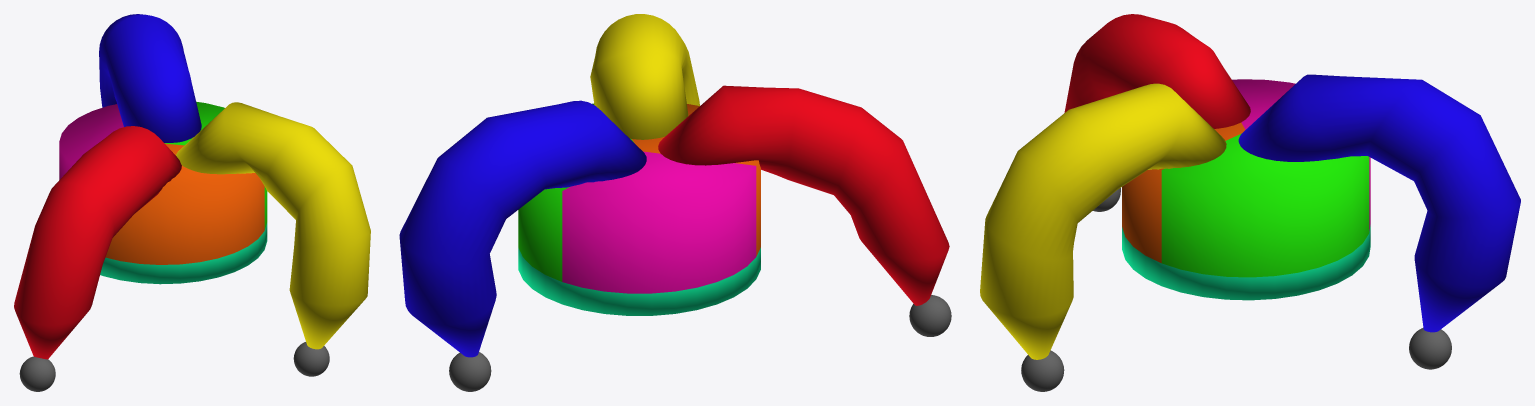
Rendered from Jester hat.gltf.
3 renders of one model, left to right at view 1: azimuth 30°, elevation 25°; view 2: azimuth 150°, elevation 25°; view 3: azimuth 270°, elevation 25°, orthographic. The views are drawn at different scales.
Visible parts, largest first — view 1: Jester hat; view 2: Jester hat; view 3: Jester hat.
Boxes of the visible parts, x1,y1,x2,y2 form: Jester hat: (14, 14, 370, 391); Jester hat: (399, 14, 951, 391); Jester hat: (980, 14, 1520, 391).
Size of the model in its own units: 0.5202 by 0.3938 by 0.647.
